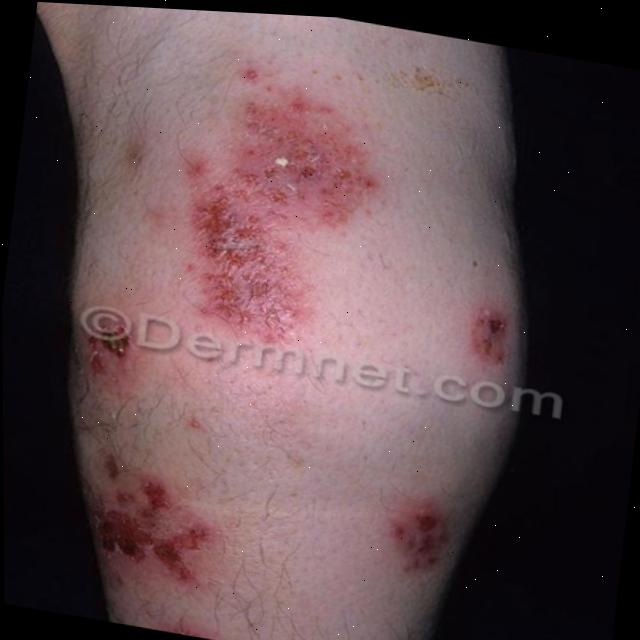Eczema: (194, 94, 353, 346), (100, 447, 199, 583), (74, 313, 132, 389), (153, 616, 321, 640), (404, 496, 450, 568), (468, 303, 516, 360)
